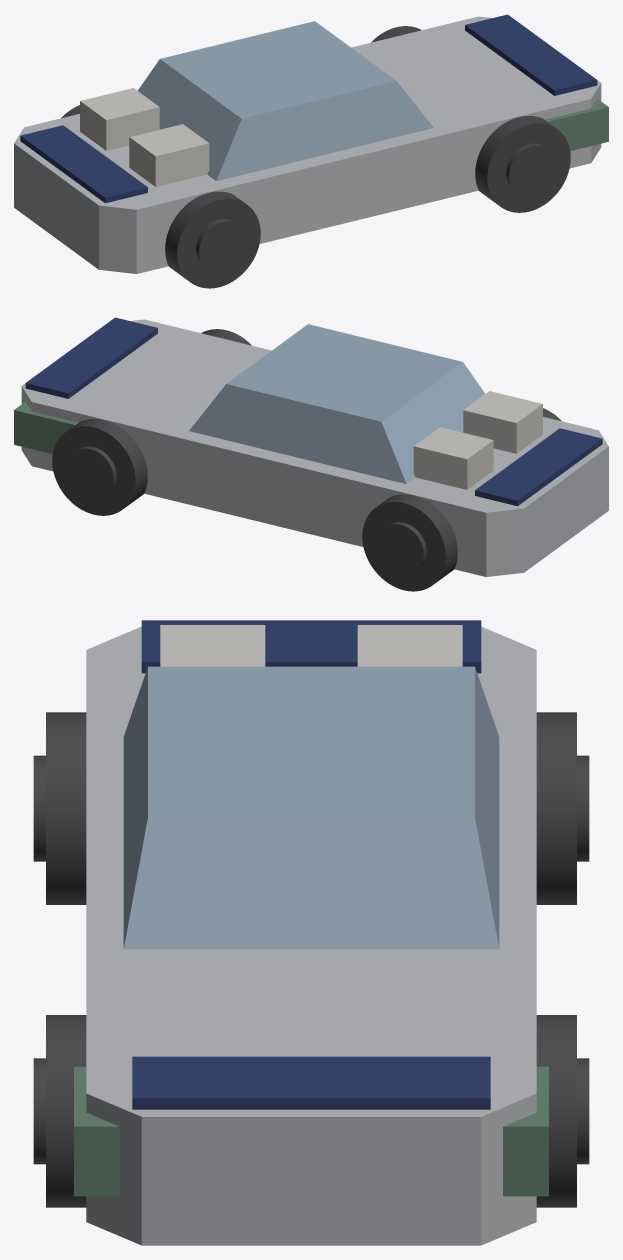
3 renders of one model, top to bottom at view 1: azimuth 30°, elevation 25°; view 2: azimuth 150°, elevation 25°; view 3: azimuth 270°, elevation 25°, orthographic. The views are drawn at different scales.
Parts seen in each view (by area): view 1: chassis, cabin, wheel_rr, wheel_fr, solar_hood, solar_deck, module_02, module_01, sensor_module; view 2: chassis, cabin, wheel_rl, wheel_fl, solar_hood, solar_deck, module_01, module_02, control_module; view 3: chassis, cabin, solar_hood, wheel_rl, wheel_rr, wheel_fl, wheel_fr, solar_deck, module_01, module_02, control_module, sensor_module.
Part boxes in pixels (x1,y1,x2,y2): chassis: (14, 16, 601, 273); cabin: (138, 21, 433, 180); wheel_rr: (165, 191, 260, 288); wheel_fr: (475, 116, 570, 212); solar_hood: (465, 14, 597, 95); solar_deck: (20, 125, 147, 203); module_02: (129, 124, 209, 186); module_01: (80, 88, 159, 150); sensor_module: (543, 99, 608, 150); chassis: (21, 319, 608, 576); cabin: (189, 324, 484, 483); wheel_rl: (362, 494, 457, 591); wheel_fl: (52, 419, 147, 515); solar_hood: (25, 317, 157, 398); solar_deck: (475, 428, 602, 506); module_01: (413, 427, 493, 489); module_02: (463, 391, 542, 453); control_module: (14, 402, 79, 453); chassis: (86, 626, 536, 1245); cabin: (123, 666, 499, 949); solar_hood: (132, 1056, 490, 1109); wheel_rl: (536, 712, 589, 904); wheel_rr: (33, 712, 86, 904); wheel_fl: (536, 1015, 589, 1207); wheel_fr: (33, 1015, 86, 1207); solar_deck: (141, 620, 481, 673); module_01: (357, 625, 462, 666); module_02: (160, 625, 265, 666); control_module: (503, 1066, 548, 1196); sensor_module: (74, 1066, 119, 1196).
Size of the model in its own units: 9.4 by 2.47 by 4.5.
